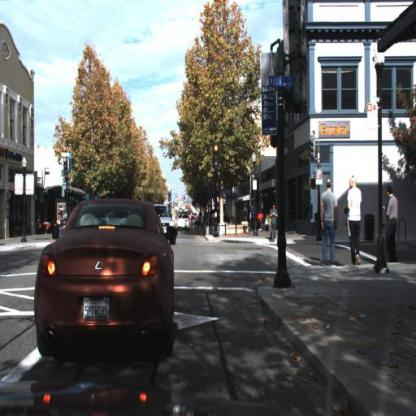car: (30, 196, 178, 368), (155, 201, 182, 250)
pedestrian: (343, 172, 366, 270), (320, 178, 339, 266), (381, 185, 402, 264), (57, 211, 69, 247), (271, 205, 280, 245), (251, 206, 256, 229), (244, 205, 249, 226), (51, 168, 57, 181)
trafficLight-Red: (213, 142, 221, 169), (62, 157, 69, 178)
